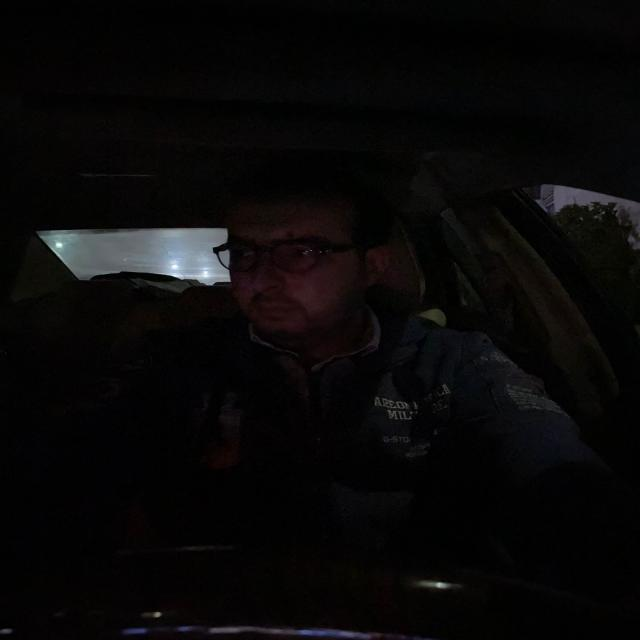LeftRight: (213, 168, 409, 338)
